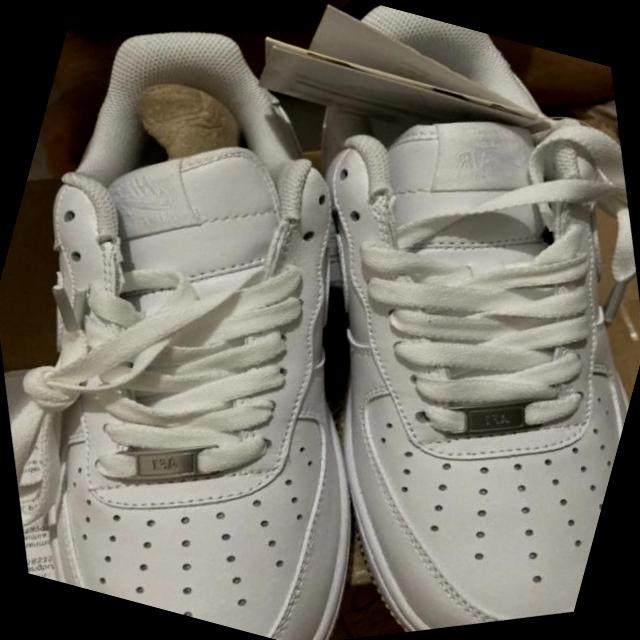nike_original_airforce: (0, 0, 536, 640), (141, 0, 640, 640)
